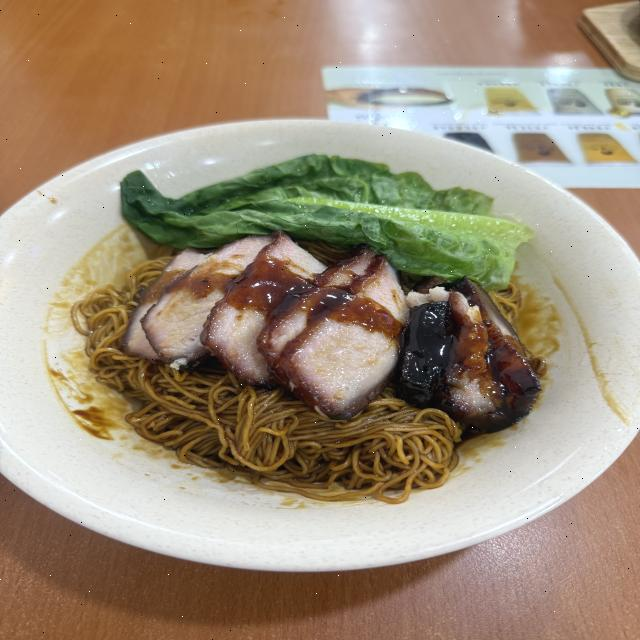Wantan Mee: (30, 130, 626, 551)
